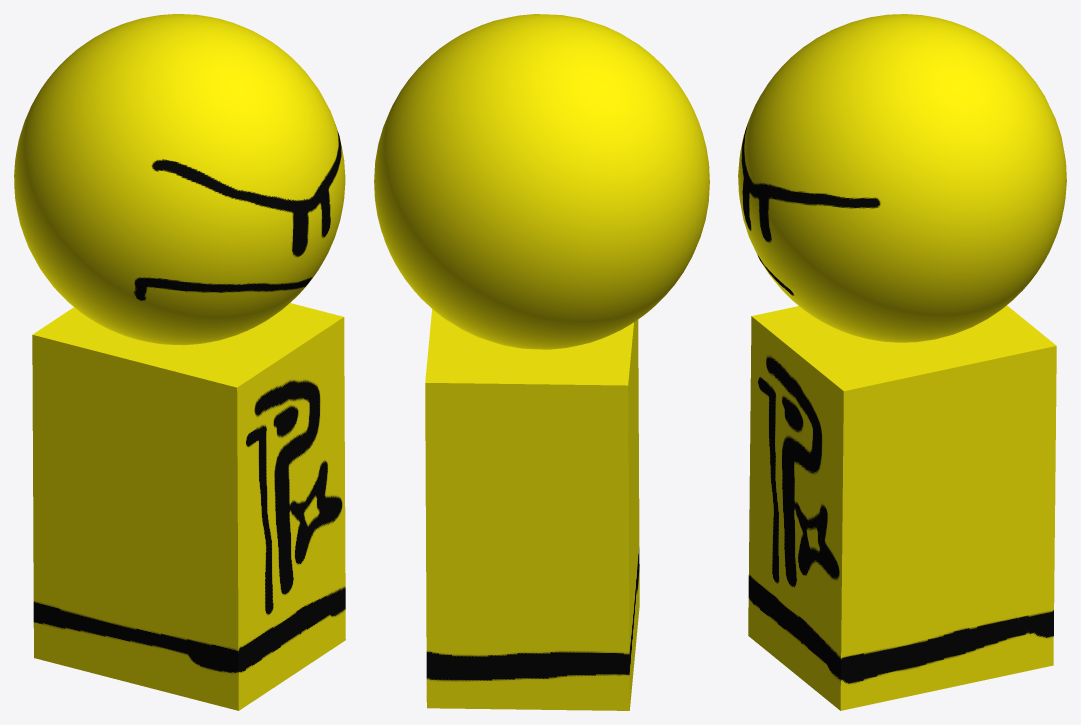
Rendered from Purpleguy-story.glb.
3 views of the same model, side by side, from view 1: azimuth 30°, elevation 25°; view 2: azimuth 150°, elevation 25°; view 3: azimuth 270°, elevation 25° (orthographic). The views are drawn at different scales.
Parts seen in each view (by area): view 1: mesh_id27, mesh_id35; view 2: mesh_id35, mesh_id27; view 3: mesh_id27, mesh_id35.
Part boxes in pixels (box(x1,y1,x2,y2)): mesh_id27: box(32, 303, 345, 710); mesh_id35: box(14, 14, 345, 345); mesh_id35: box(374, 14, 709, 349); mesh_id27: box(425, 309, 639, 710); mesh_id27: box(748, 305, 1056, 710); mesh_id35: box(738, 14, 1066, 342).
Size of the model in its own units: 0.2 by 0.4146 by 0.2.
2 materials, 2 textured.
